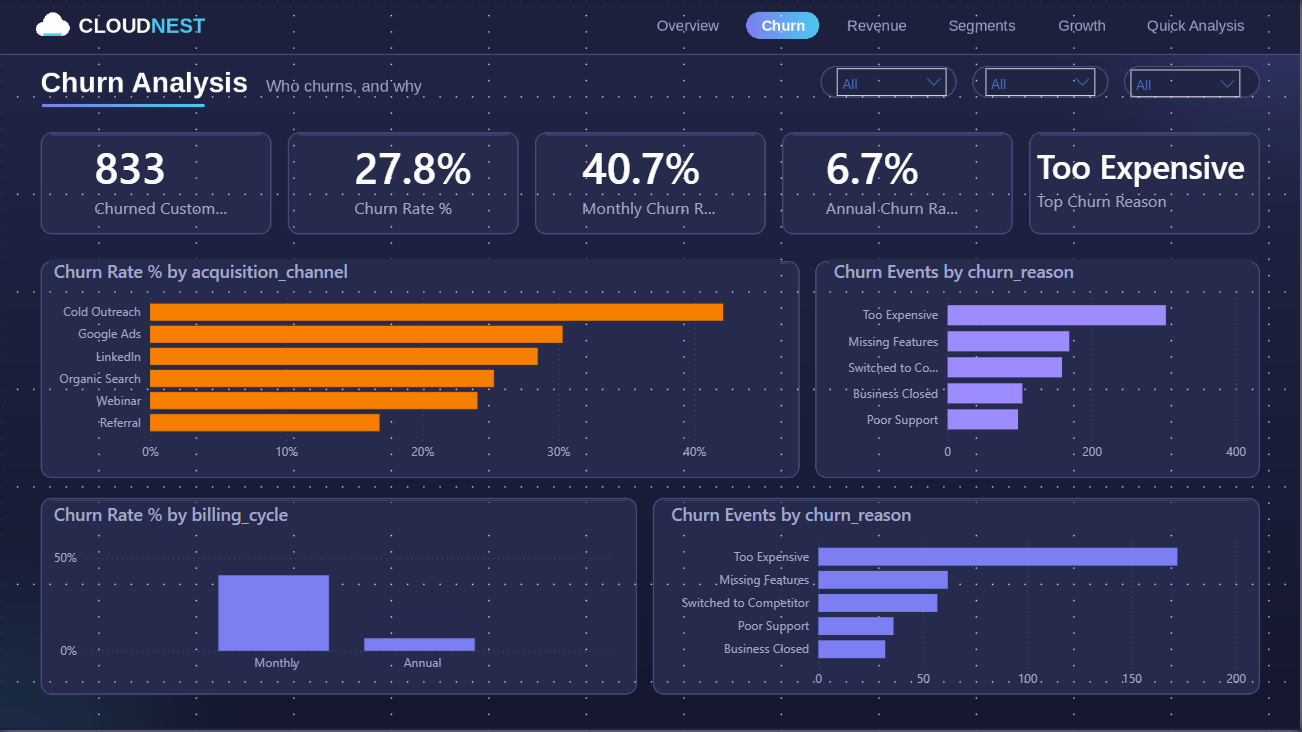

What the dashboard file says about the page in this screenshot:
{"tool":"powerbi","page":{"name":"Churn Analysis","canvas":[1280,720],"ordinal":2},"visuals":[{"type":"cardVisual","fields":{"Data":["_Measures.Churned Customers"]},"box":[64,112,192,128],"z":0},{"type":"cardVisual","fields":{"Data":["_Measures.Churn Rate %"]},"box":[320,112,192,128],"z":1000},{"type":"cardVisual","fields":{"Data":["_Measures.Monthly Churn Rate %"]},"box":[544,112,192,128],"z":2000},{"type":"cardVisual","fields":{"Data":["_Measures.Annual Churn Rate %"]},"box":[784,112,192,128],"z":3000},{"type":"cardVisual","fields":{"Data":["_Measures.Top Churn Reason"]},"box":[992,112,288,128],"z":4000},{"type":"slicer","fields":{"Values":["customers.region"]},"box":[814,58,128,64],"z":5000},{"type":"slicer","fields":{"Values":["customers.industry"]},"box":[960,58,128,64],"z":6000},{"type":"slicer","fields":{"Values":["subscriptions.billing_cycle"]},"box":[1103,59,128,63],"z":7000},{"type":"clusteredBarChart","title":"Churn Rate % by acquisition_channel","fields":{"Category":["customers.acquisition_channel"],"Y":["_Measures.Plan Churn Rate %"]},"box":[48,256,720,208],"z":8000},{"type":"clusteredBarChart","fields":{"Y":["_Measures.Churn Events"],"Category":["churn_events.churn_reason"]},"box":[816,256,416,208],"z":9000},{"type":"clusteredColumnChart","title":"Churn Rate % by billing_cycle","fields":{"Category":["subscriptions.billing_cycle"],"Y":["_Measures.Plan Churn Rate %"]},"box":[48,496,560,176],"z":10000},{"type":"clusteredBarChart","fields":{"Category":["churn_events.churn_reason"],"Y":["_Measures.Churn Events"]},"box":[656,496,576,192],"z":11000},{"type":"actionButton","box":[640,16,80,32],"z":12000},{"type":"actionButton","box":[820.1,11,80,32],"z":13000},{"type":"actionButton","box":[922.1,11,80,32],"z":14000},{"type":"actionButton","box":[1019.1,12,80,32],"z":15000},{"type":"actionButton","box":[1125.1,12,96,32],"z":16000}]}

Visuals, with their boxes on the page's 1280x720 design canvas (x1, y1, x2, y2). These are canvas units, not pixel positions in the 1302x732 screenshot, which may show the page scaled, cropped or inside an application window:
cardVisual - _Measures.Churned Customers: Rect(64, 112, 256, 240)
cardVisual - _Measures.Churn Rate %: Rect(320, 112, 512, 240)
cardVisual - _Measures.Monthly Churn Rate %: Rect(544, 112, 736, 240)
cardVisual - _Measures.Annual Churn Rate %: Rect(784, 112, 976, 240)
cardVisual - _Measures.Top Churn Reason: Rect(992, 112, 1280, 240)
slicer - customers.region: Rect(814, 58, 942, 122)
slicer - customers.industry: Rect(960, 58, 1088, 122)
slicer - subscriptions.billing_cycle: Rect(1103, 59, 1231, 122)
"Churn Rate % by acquisition_channel" clusteredBarChart: Rect(48, 256, 768, 464)
clusteredBarChart - _Measures.Churn Events x churn_events.churn_reason: Rect(816, 256, 1232, 464)
"Churn Rate % by billing_cycle" clusteredColumnChart: Rect(48, 496, 608, 672)
clusteredBarChart - churn_events.churn_reason x _Measures.Churn Events: Rect(656, 496, 1232, 688)
actionButton: Rect(640, 16, 720, 48)
actionButton: Rect(820, 11, 900, 43)
actionButton: Rect(922, 11, 1002, 43)
actionButton: Rect(1019, 12, 1099, 44)
actionButton: Rect(1125, 12, 1221, 44)
